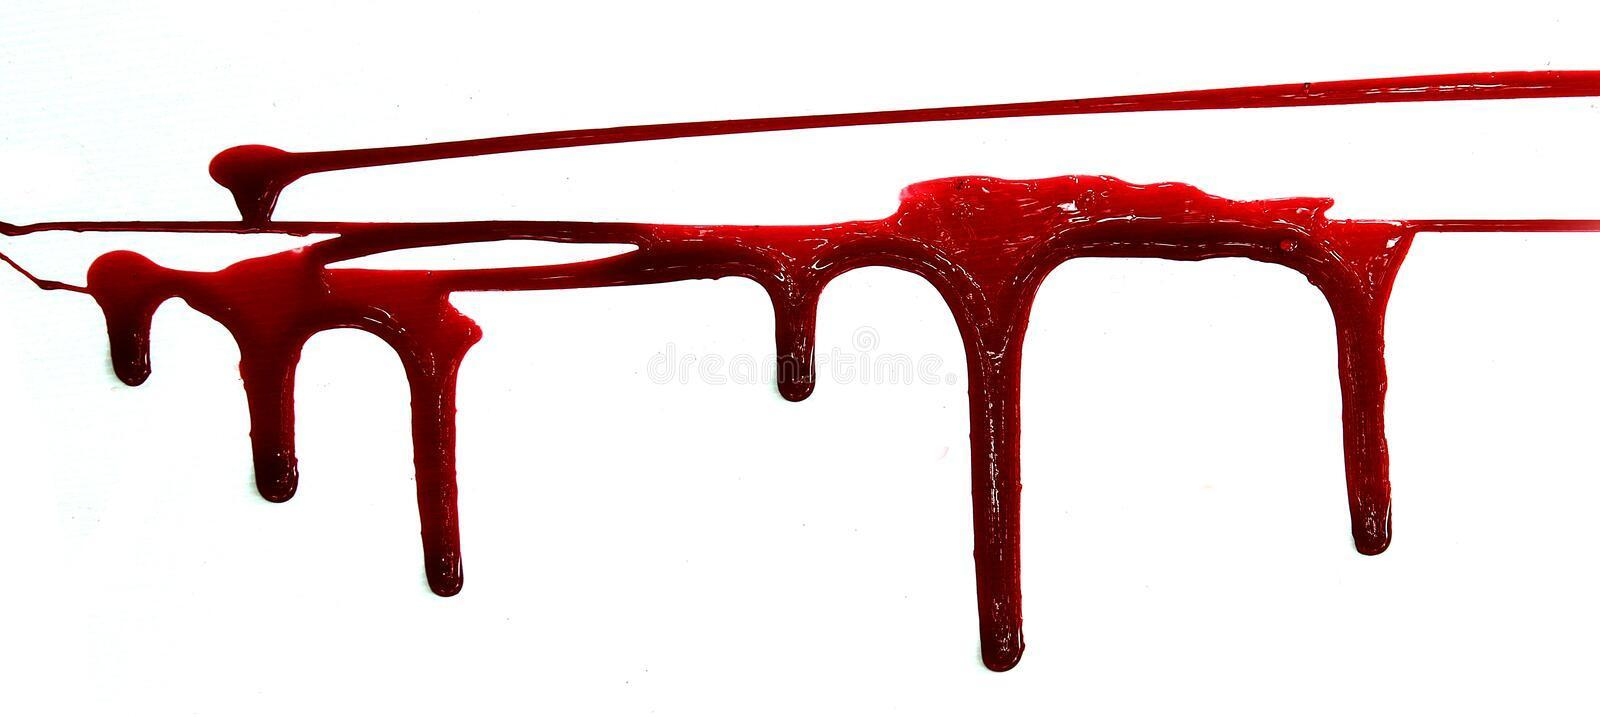Fire: (0, 69, 1598, 672)
